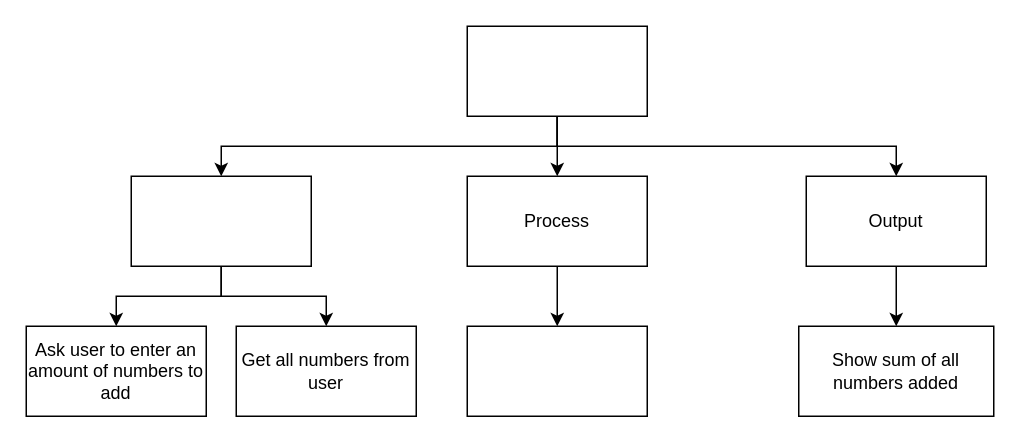
Image size: 1020x443. Some labels were removed from this diagram. The shapes that lost their labels are listed below. From the top down, each one's box as (x1, y1, x2, y2) in pixels, then its label:
(466, 25, 647, 116): Sum Program
(130, 175, 311, 266): Input
(466, 325, 647, 416): Add all numbers together that are positive
